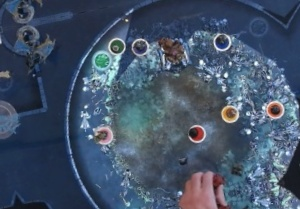blue: (211, 29, 234, 54)
green: (106, 33, 130, 58)
orange: (260, 96, 289, 125)
pink: (92, 122, 117, 148)
red: (185, 119, 210, 145)
violet: (131, 35, 154, 60)
yellow: (218, 102, 243, 125)
